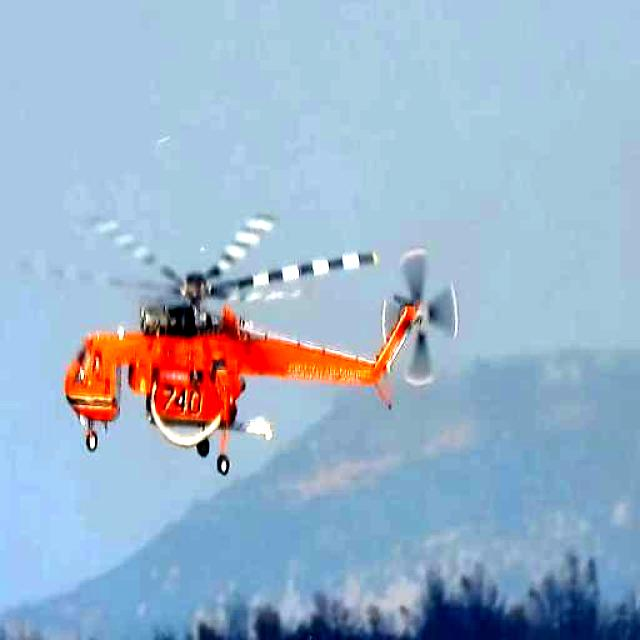drone: (24, 205, 465, 484)
